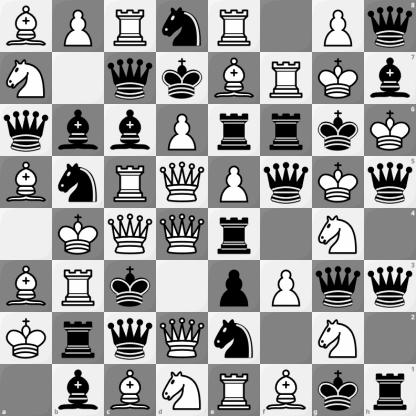B: (104, 364, 156, 416), (260, 364, 312, 416), (1, 1, 52, 52), (1, 157, 52, 208), (1, 261, 52, 312), (209, 53, 260, 104)
K: (364, 104, 416, 156), (1, 313, 52, 364), (53, 209, 104, 260), (313, 53, 364, 104), (313, 157, 364, 208)
N: (156, 364, 209, 416), (1, 53, 52, 104), (313, 209, 364, 260), (313, 313, 364, 364)
P: (53, 1, 104, 52), (157, 105, 208, 156), (209, 157, 260, 208), (261, 261, 312, 312), (313, 1, 364, 52)
Q: (105, 209, 156, 260), (157, 157, 208, 208), (157, 209, 208, 260), (157, 313, 208, 364)
R: (209, 364, 260, 416), (53, 261, 104, 312), (105, 1, 156, 52), (105, 157, 156, 208), (209, 1, 260, 52), (261, 53, 312, 104)
b: (52, 364, 104, 416), (364, 52, 416, 104), (53, 105, 104, 156), (105, 105, 156, 156)
board: (0, 0, 415, 415)
k: (312, 364, 364, 416), (105, 261, 156, 312), (157, 53, 208, 104), (313, 105, 364, 156)
n: (53, 157, 104, 208), (157, 1, 208, 52), (209, 313, 260, 364)
p: (209, 261, 260, 312)
q: (364, 156, 416, 209), (364, 0, 416, 52), (364, 260, 416, 312), (1, 105, 52, 156), (105, 53, 156, 104), (105, 313, 156, 364), (261, 157, 312, 208), (313, 261, 364, 312)
r: (364, 364, 416, 416), (53, 313, 104, 364), (209, 105, 260, 156), (209, 209, 260, 260), (261, 105, 312, 156)
